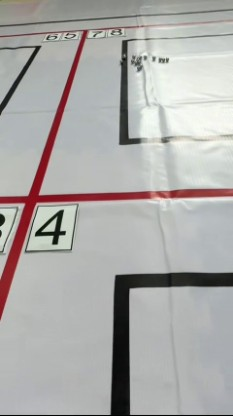ironball: (133, 61, 144, 73), (136, 52, 146, 61), (149, 52, 156, 63), (129, 51, 136, 60), (120, 51, 127, 59), (128, 58, 135, 66), (158, 54, 164, 63), (142, 52, 148, 61), (163, 55, 170, 61)
